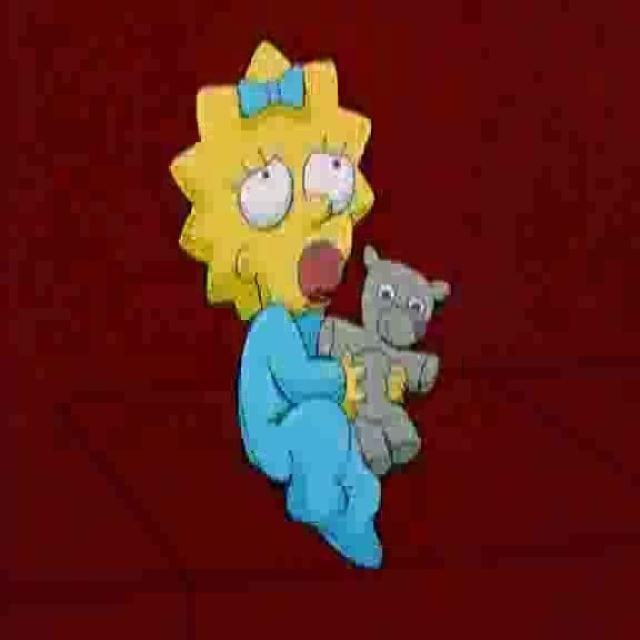Maggie Simpson: (161, 37, 379, 322)
